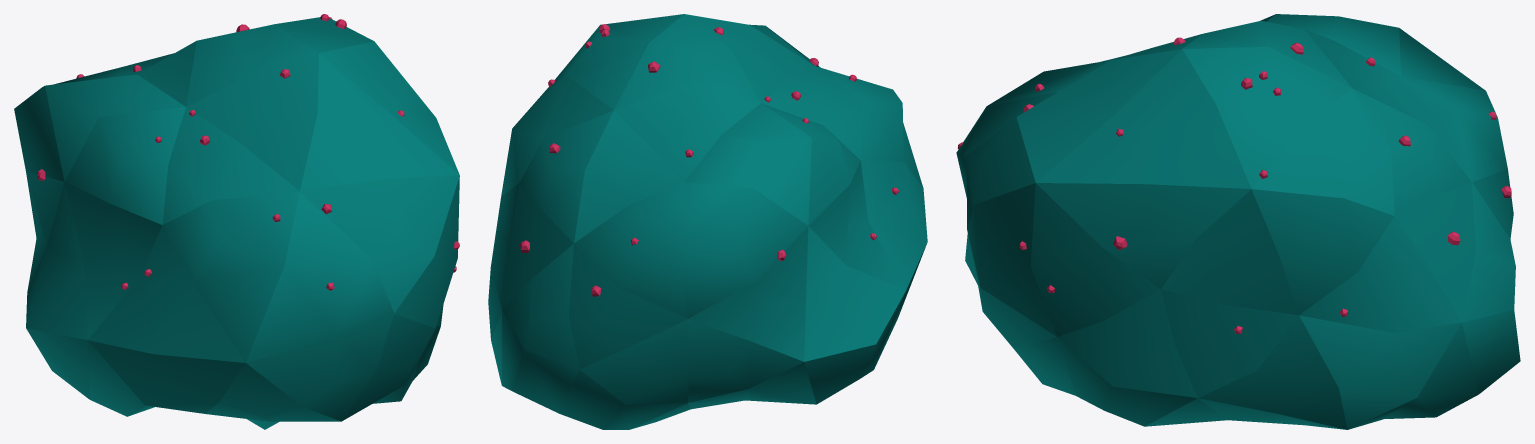
File: round_bush.fbx
3 views of the same model, side by side, from view 1: azimuth 30°, elevation 25°; view 2: azimuth 150°, elevation 25°; view 3: azimuth 270°, elevation 25° (orthographic). The views are drawn at different scales.
Parts seen in each view (by area): view 1: round_bush; view 2: round_bush; view 3: round_bush.
Boxes of the visible parts, x1,y1,x2,y2 form: round_bush: (14, 14, 459, 429); round_bush: (488, 14, 927, 429); round_bush: (956, 14, 1520, 429).
Size of the model in its own units: 69.24 by 62.42 by 87.27.
Materials: 2 (2 with a texture image).
